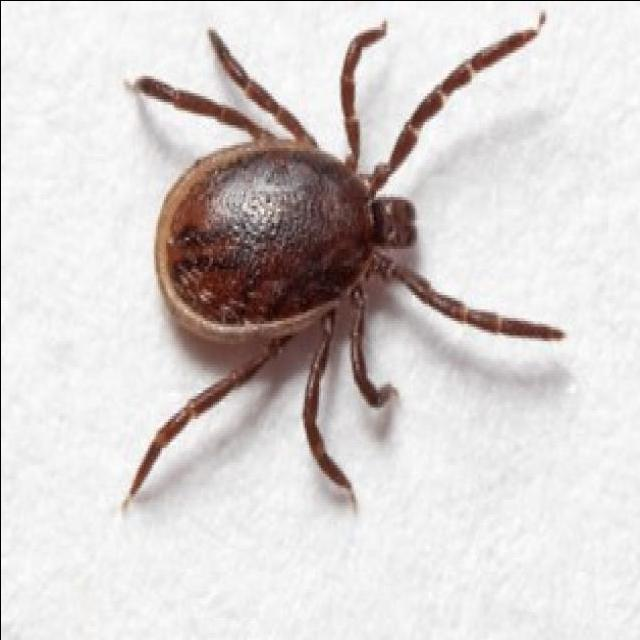Ixodes Ricinus-M: (126, 14, 565, 502)
